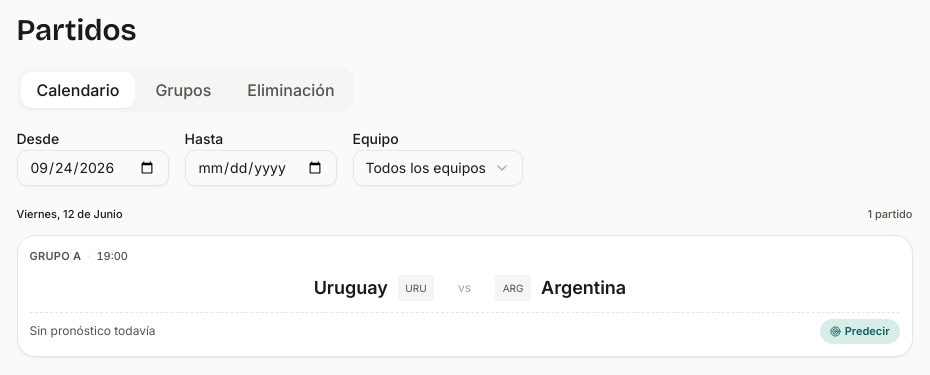
Scenario: FixturePage › shows an error message (not the "Próximamente" placeholder) when standings fail
This screenshot has width=930, height=375.
Click the tab "Grupos" at point(183, 90), box x1=139 y1=72 x2=227 y2=108
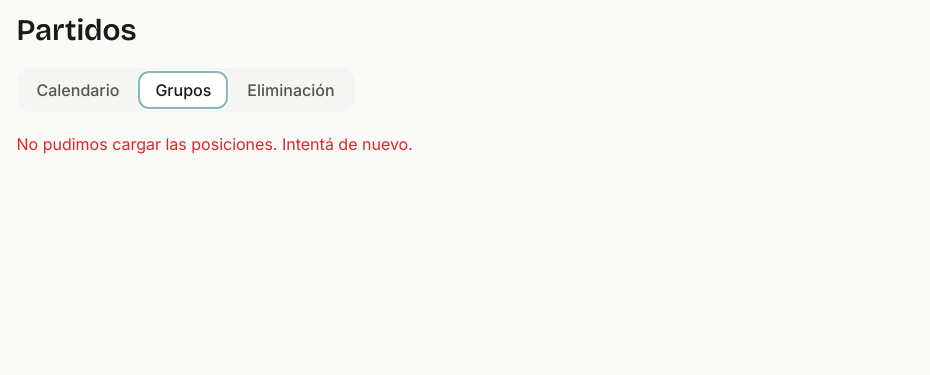
Result: the text "No pudimos cargar las posiciones. Intentá de nuevo." is shown at x1=16 y1=134 x2=413 y2=154
